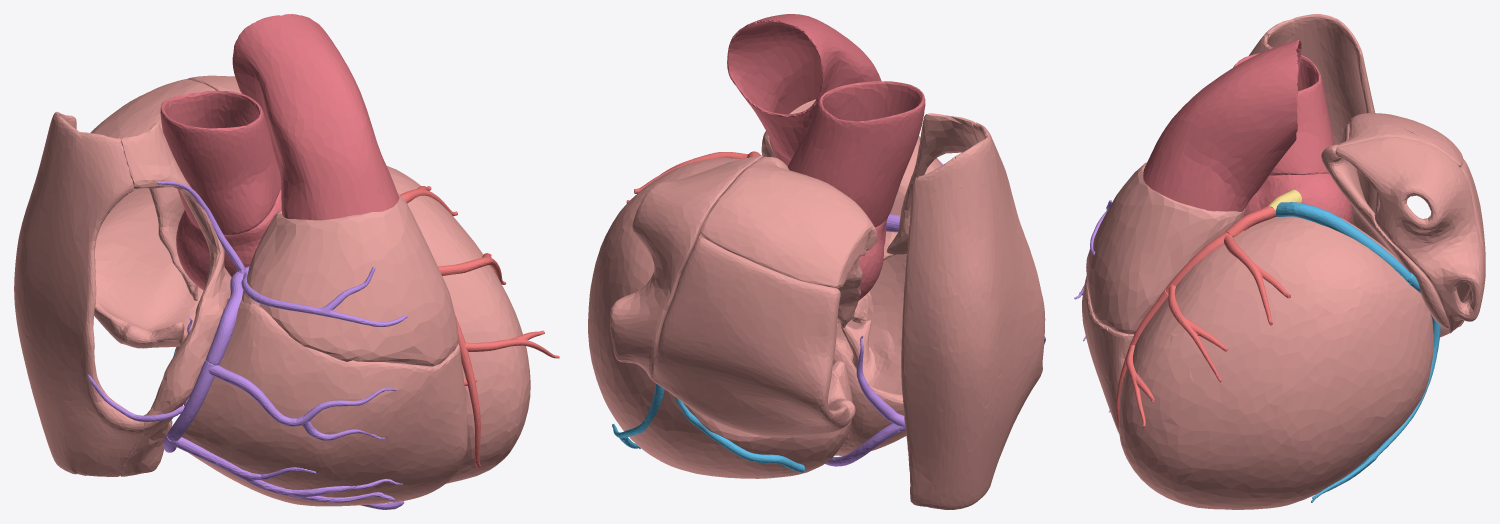
The model's file is cardiotwin_heart.glb.
The picture shows the model from 3 angles, left to right: view 1: azimuth 30°, elevation 25°; view 2: azimuth 150°, elevation 25°; view 3: azimuth 270°, elevation 25°; orthographic projection. The views are drawn at different scales.
Parts seen in each view (by area): view 1: HeartBody_HeartBody_RightVentricle_Inflow, HeartBody_HeartBody_RightAtrium_Lateral, HeartBody_HeartBody_RightVentricle_Outflow, Aorta_GreatVessel_PulmonaryTrunk, HeartBody_HeartBody_LeftVentricle, Aorta_Aorta_Ascending, HeartBody_HeartBody_LeftAtrium_Posterior, HeartBody_HeartBody_RightAtrium_Anterior, Aorta_Aorta_Bulb, HeartBody_HeartBody_LeftAtrium_Superior, RCA_RCA_MarginalBranch, RCA_RCA_AnteriorVentricularBranch (+9 smaller); view 2: HeartBody_HeartBody_RightAtrium_Lateral, HeartBody_HeartBody_LeftAtrium_Posterior, HeartBody_HeartBody_LeftVentricle, HeartBody_HeartBody_LeftAtrium_Superior, Aorta_Aorta_Ascending, Aorta_GreatVessel_PulmonaryTrunk, HeartBody_HeartBody_LeftAtrium_Lateral, HeartBody_HeartBody_RightVentricle_Inflow, HeartBody_HeartBody_RightAtrium_Anterior, LCX_LCX_Trunk_Distal, HeartBody_HeartBody_LeftAtrium_Anterior, HeartBody_HeartBody_RightVentricle_Outflow (+5 smaller); view 3: HeartBody_HeartBody_LeftVentricle, Aorta_GreatVessel_PulmonaryTrunk, HeartBody_HeartBody_LeftAtrium_Lateral, HeartBody_HeartBody_RightVentricle_Outflow, HeartBody_HeartBody_RightAtrium_Lateral, Aorta_Aorta_Ascending, HeartBody_HeartBody_LeftAtrium_Anterior, HeartBody_HeartBody_RightVentricle_Inflow, Aorta_Aorta_Bulb, HeartBody_HeartBody_LeftAtrium_Superior, LCX_LCX_Trunk_Proximal, LCX_LCX_PosteriorVentricularBranch (+7 smaller).
Part boxes in pixels (bbox=[...]): HeartBody_HeartBody_RightVentricle_Inflow: bbox=[181, 299, 467, 506]; HeartBody_HeartBody_RightAtrium_Lateral: bbox=[14, 112, 143, 476]; HeartBody_HeartBody_RightVentricle_Outflow: bbox=[242, 193, 458, 366]; Aorta_GreatVessel_PulmonaryTrunk: bbox=[232, 14, 399, 220]; HeartBody_HeartBody_LeftVentricle: bbox=[175, 166, 530, 483]; Aorta_Aorta_Ascending: bbox=[160, 90, 281, 235]; HeartBody_HeartBody_LeftAtrium_Posterior: bbox=[94, 188, 203, 348]; HeartBody_HeartBody_RightAtrium_Anterior: bbox=[120, 122, 231, 476]; Aorta_Aorta_Bulb: bbox=[176, 189, 281, 290]; HeartBody_HeartBody_LeftAtrium_Superior: bbox=[90, 79, 216, 139]; RCA_RCA_MarginalBranch: bbox=[173, 437, 402, 502]; RCA_RCA_AnteriorVentricularBranch: bbox=[208, 365, 396, 440]; HeartBody_HeartBody_RightAtrium_Lateral: bbox=[901, 122, 1045, 509]; HeartBody_HeartBody_LeftAtrium_Posterior: bbox=[650, 237, 855, 437]; HeartBody_HeartBody_LeftVentricle: bbox=[588, 158, 852, 478]; HeartBody_HeartBody_LeftAtrium_Superior: bbox=[700, 156, 877, 287]; Aorta_Aorta_Ascending: bbox=[787, 81, 925, 227]; Aorta_GreatVessel_PulmonaryTrunk: bbox=[727, 14, 881, 165]; HeartBody_HeartBody_LeftAtrium_Lateral: bbox=[610, 155, 763, 379]; HeartBody_HeartBody_RightVentricle_Inflow: bbox=[833, 231, 906, 455]; HeartBody_HeartBody_RightAtrium_Anterior: bbox=[886, 113, 978, 254]; LCX_LCX_Trunk_Distal: bbox=[675, 397, 805, 472]; HeartBody_HeartBody_LeftAtrium_Anterior: bbox=[699, 157, 862, 327]; HeartBody_HeartBody_RightVentricle_Outflow: bbox=[761, 99, 942, 215]; HeartBody_HeartBody_LeftVentricle: bbox=[1118, 216, 1433, 509]; Aorta_GreatVessel_PulmonaryTrunk: bbox=[1143, 40, 1301, 211]; HeartBody_HeartBody_LeftAtrium_Lateral: bbox=[1335, 137, 1485, 333]; HeartBody_HeartBody_RightVentricle_Outflow: bbox=[1086, 162, 1245, 334]; HeartBody_HeartBody_RightAtrium_Lateral: bbox=[1256, 14, 1380, 213]; Aorta_Aorta_Ascending: bbox=[1233, 53, 1333, 175]; HeartBody_HeartBody_LeftAtrium_Anterior: bbox=[1321, 123, 1449, 328]; HeartBody_HeartBody_RightVentricle_Inflow: bbox=[1082, 276, 1133, 433]; Aorta_Aorta_Bulb: bbox=[1243, 173, 1352, 222]; HeartBody_HeartBody_LeftAtrium_Superior: bbox=[1336, 113, 1463, 166]; LCX_LCX_Trunk_Proximal: bbox=[1276, 202, 1411, 285]; LCX_LCX_PosteriorVentricularBranch: bbox=[1311, 314, 1440, 502].
Size of the model in its own units: 1.95 by 2 by 1.8.
